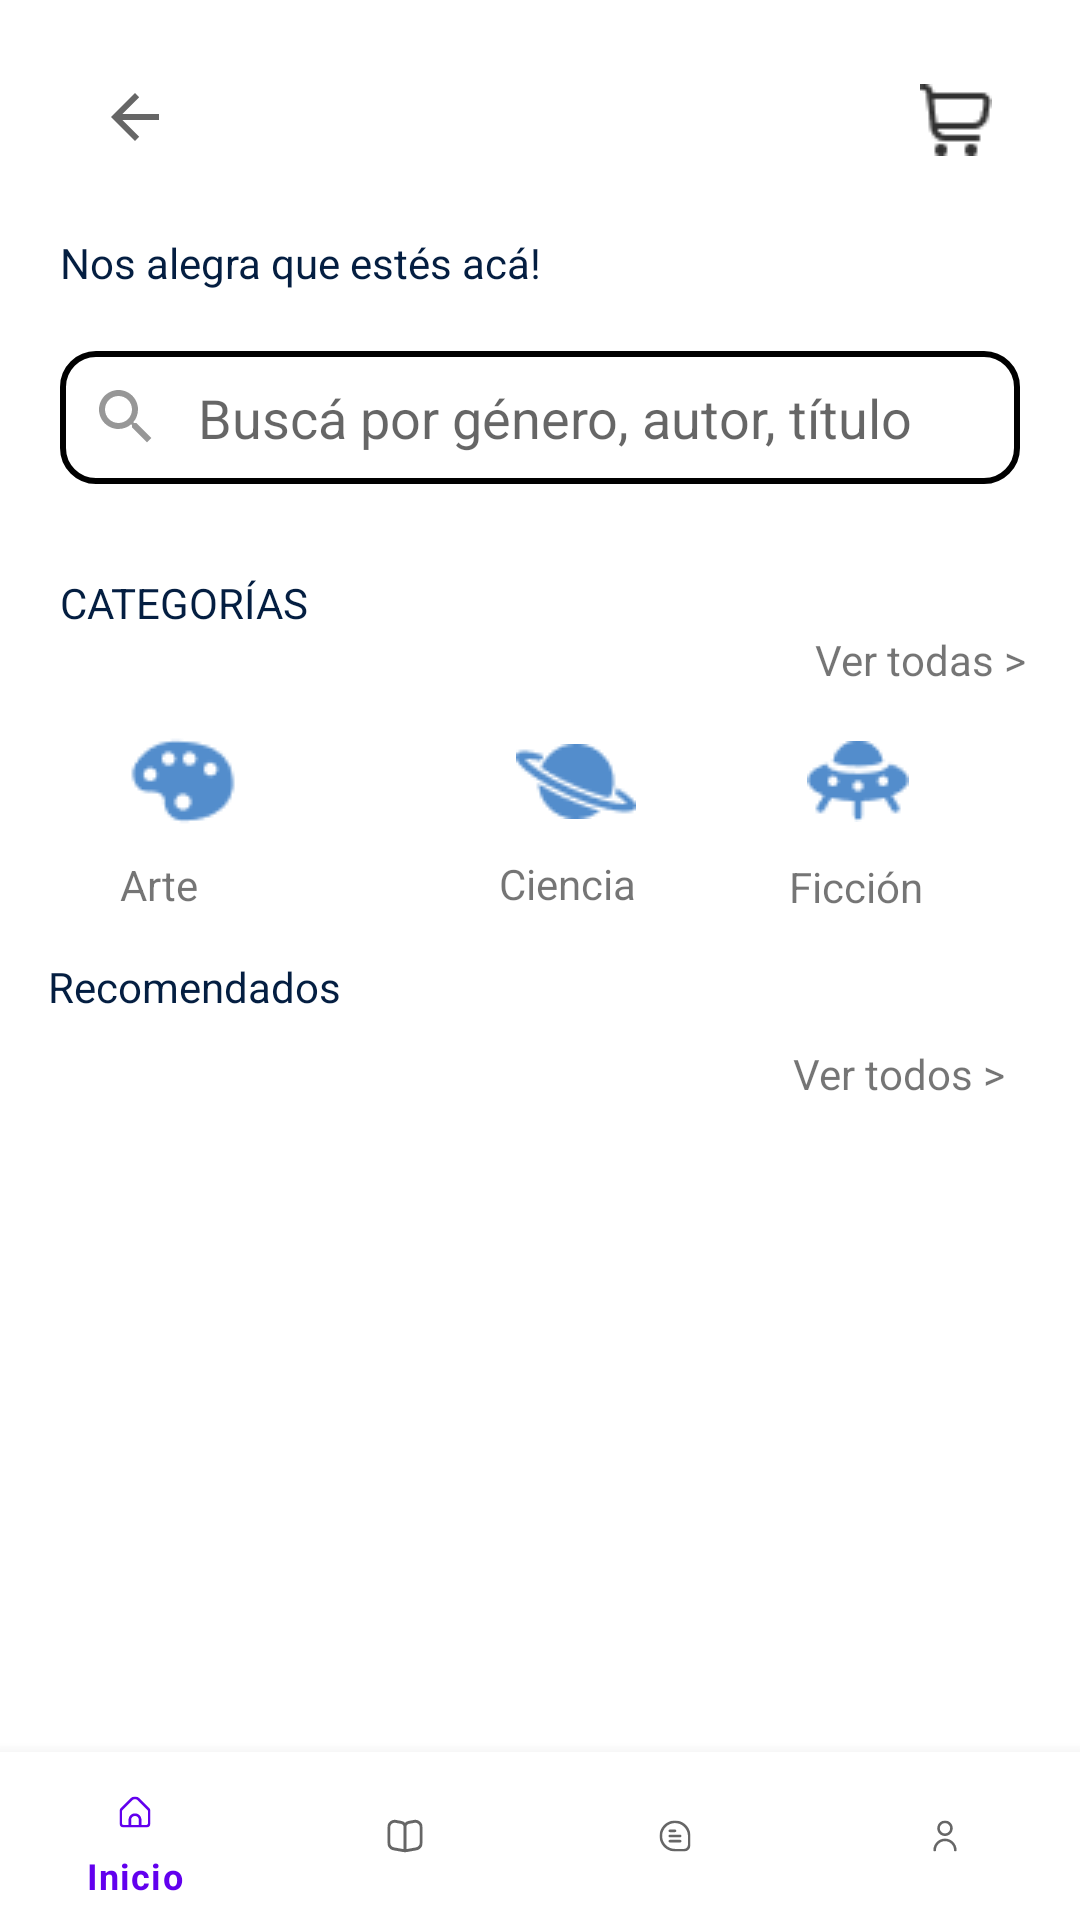

Where to tap for icons on this 1080px×1920px app screen, as point (x, y):
nave: point (858, 780)
planeta: point (576, 781)
shoppingcarticon: point (956, 120)
